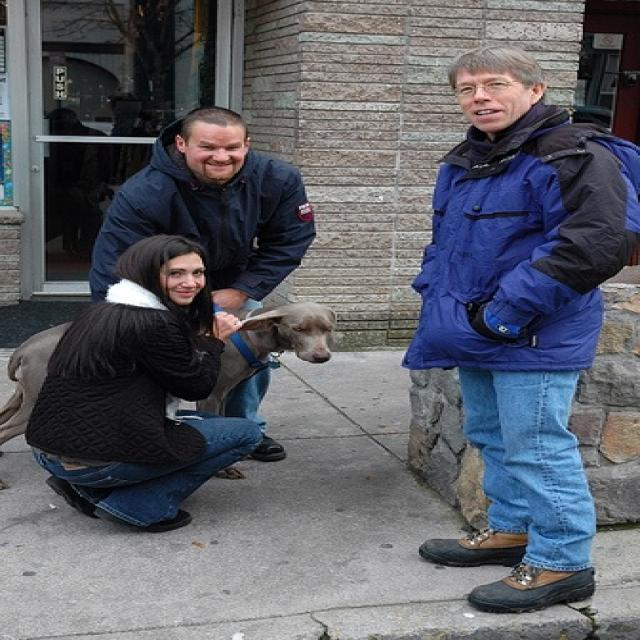dog: (0, 300, 345, 496)
